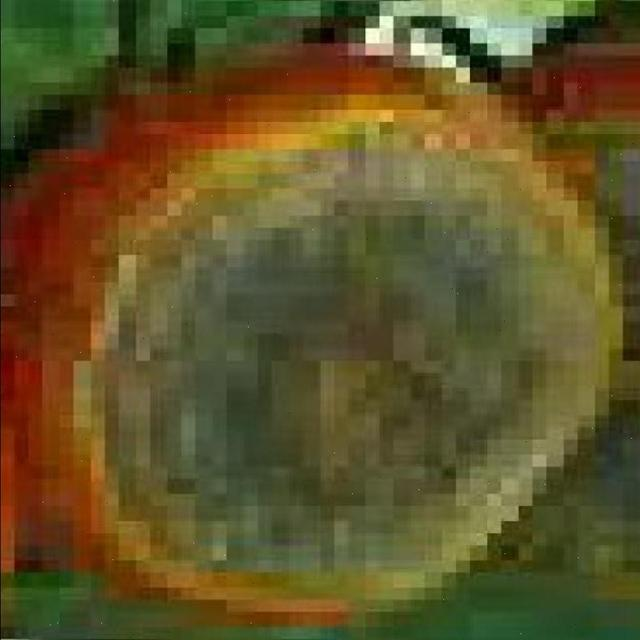Blossom End Rot Fruit: (60, 66, 410, 391)
